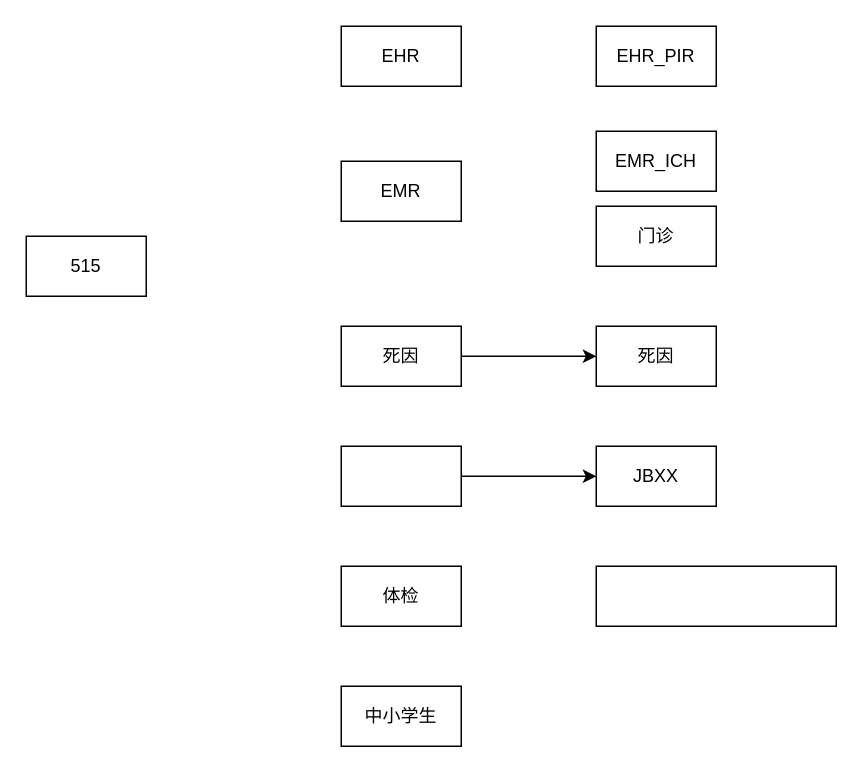
Some shapes in this 863 by 773 pixel diagram are drawn without their labels. The centre of each missing label's shape, as x and y in pixels:
"EMR_PHYSICAL_REPORT" goes at point (715, 595).
"医保" goes at point (400, 475).
